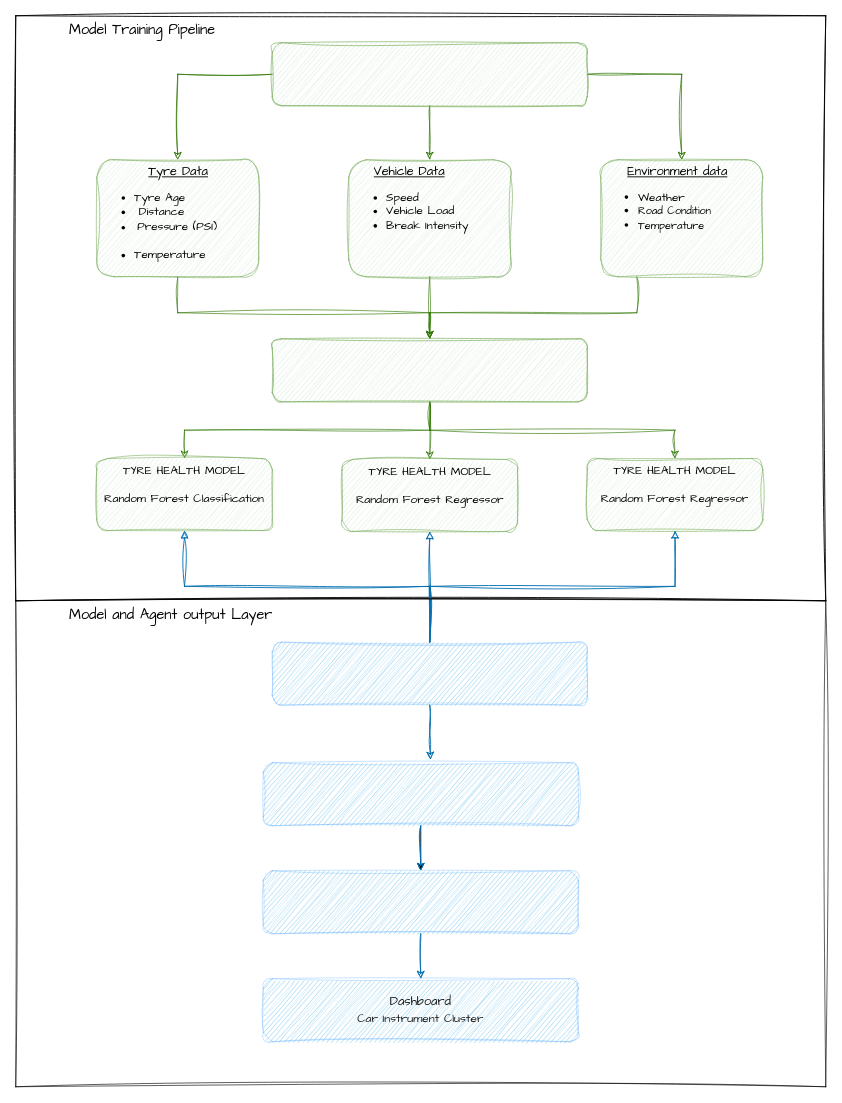
The diagram is 842 pixels wide and 1103 high, and some of its shapes have lost their labels. Here are the shapes that lost their labels. From the top down, the centre of each, then its label:
At (x=429, y=74): "Tyre IOT / Vechicle (Historic Data)".
At (x=429, y=370): "Data Preprocessing".
At (x=429, y=673): "TPA Intelligence Model".
At (x=420, y=794): "Alert Engine".
At (x=420, y=902): "TPA AI Agent Analyze | Explain | Predict | Recommend".
